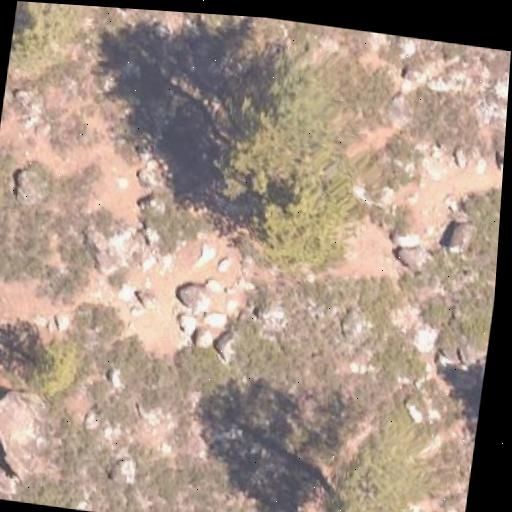tree-top: (227, 146, 376, 283), (284, 415, 440, 512), (218, 42, 336, 153), (9, 322, 83, 397), (7, 1, 76, 77)
